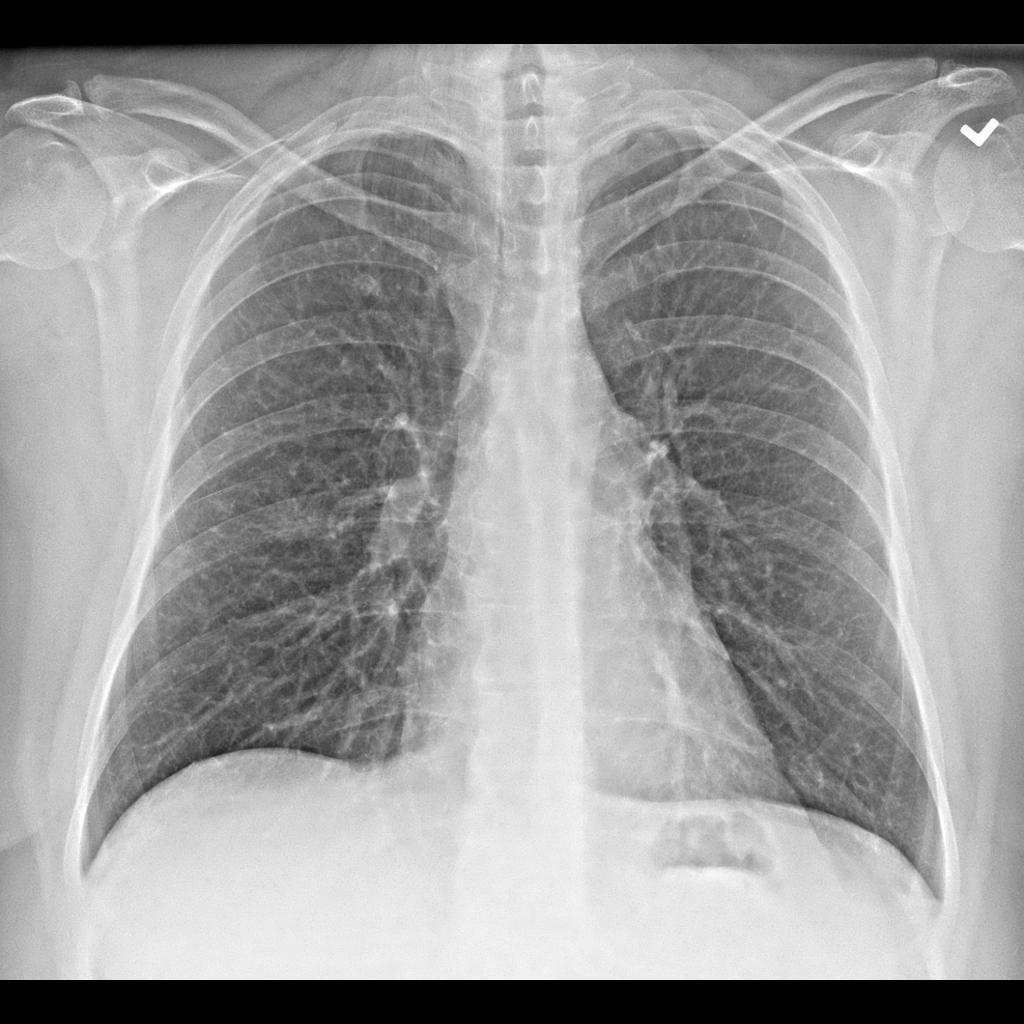Nodule: (261, 495, 324, 533)
